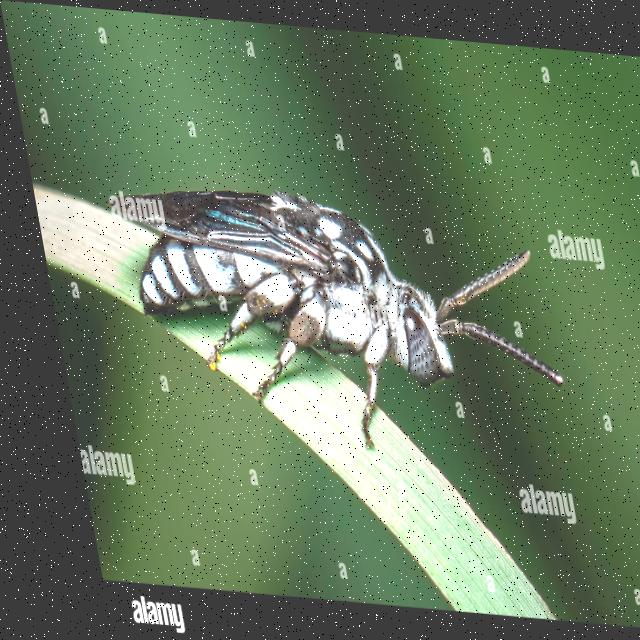Thyreus: (99, 153, 571, 458)
